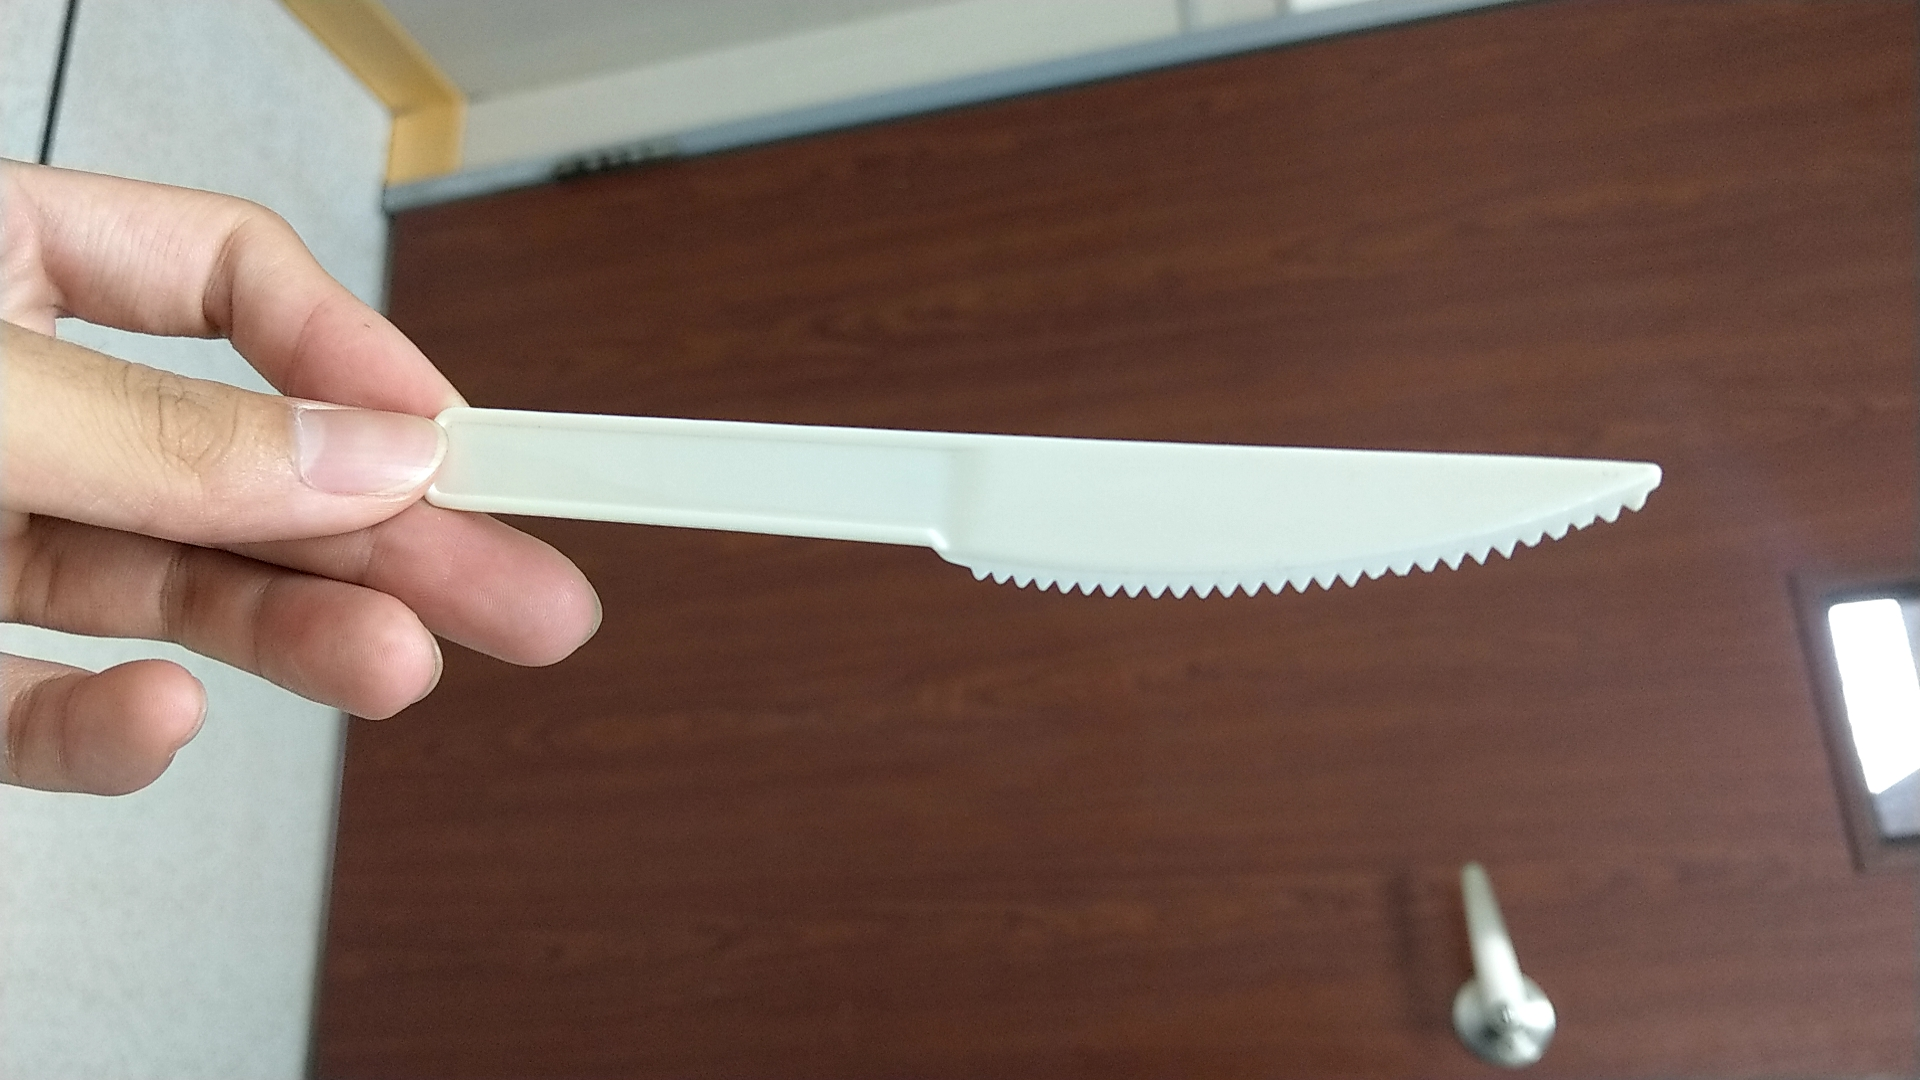knife: (485, 355, 1667, 622)
